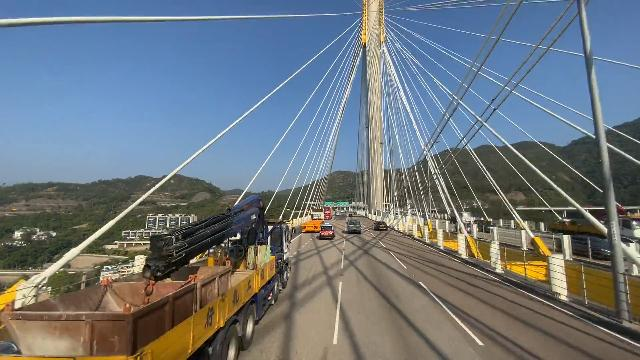car: (316, 221, 336, 245), (345, 214, 363, 239), (372, 216, 389, 233)
truck: (3, 193, 293, 360), (302, 208, 324, 233)
